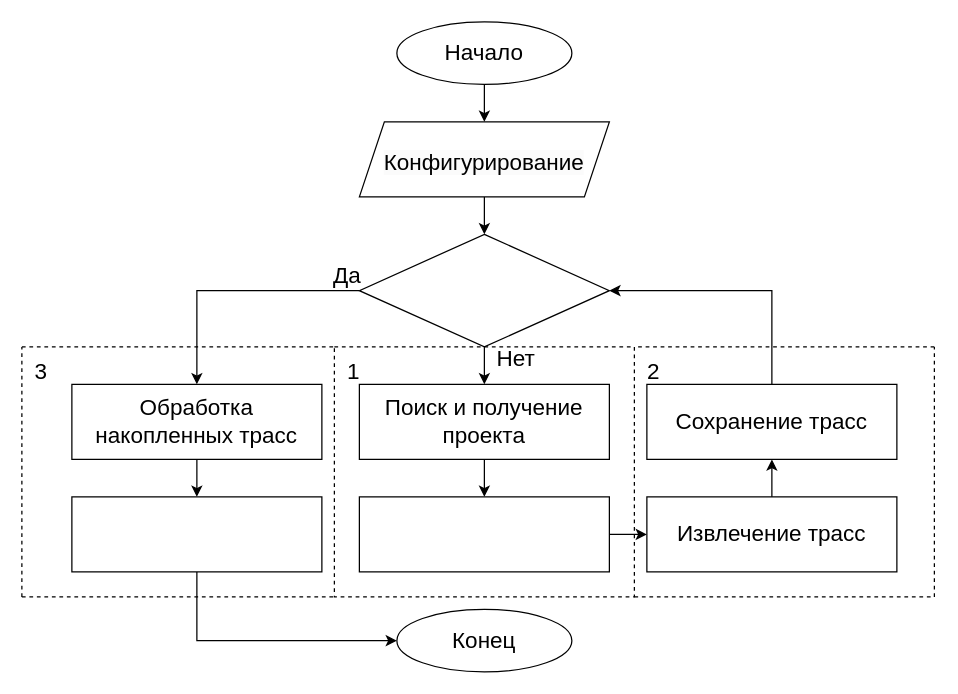
This 958x694 diagram has some shape labels left out. The shapes that lost their labels are listed below. From the top down, each one's centre as x and y in pixels, then its label:
At (x=483, y=290): "Выполняются условия остановки?".
At (x=196, y=534): "Восстановление КА".
At (x=483, y=534): "Подготовка проекта к анализу".
